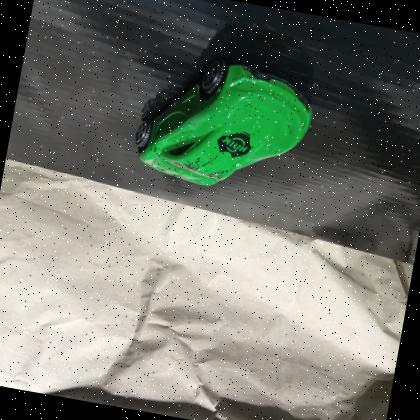Car: (122, 41, 326, 208)
